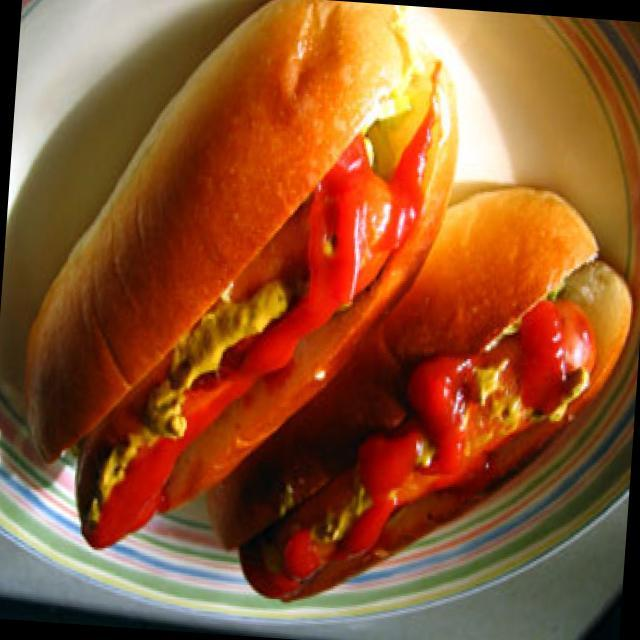Hot Dog: (31, 4, 442, 548), (232, 214, 632, 602)
